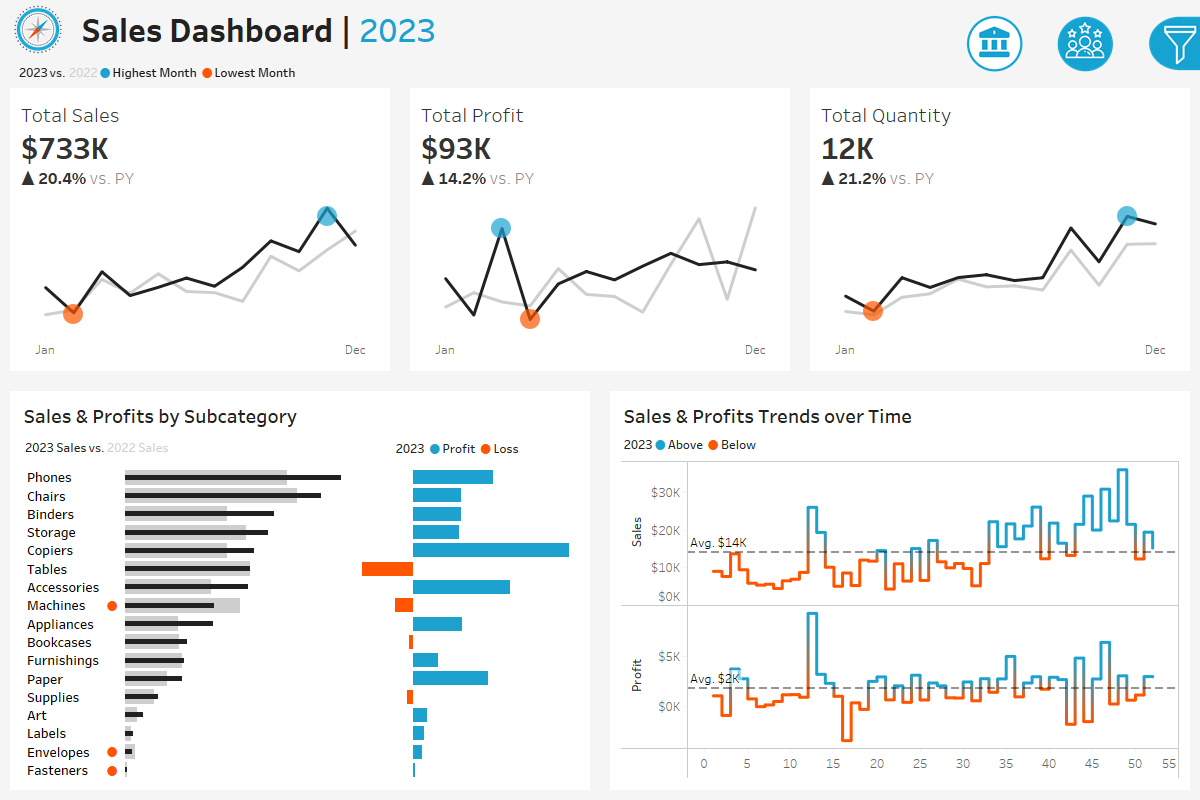

This screenshot's page, from the dashboard's own definition file:
{"tool":"tableau","page":{"name":"Sales dashboard","canvas":[1200,800],"ordinal":1},"visuals":[{"type":"image","param":"D:/SHIVAM/Imarticus-PGA/Self-Study (Extra)/Tableau/Sales Dashboard- Data with Ba","box":[0,0,75,58]},{"type":"text","box":[75,0,811,58]},{"type":"blank","box":[918,10,271,75]},{"type":"dashboard-object","box":[949,11,91,65]},{"type":"dashboard-object","box":[1040,11,91,65]},{"type":"worksheet","title":"Legend KPI","mark":"Automatic","box":[0,58,1200,30]},{"type":"text","box":[918,85,271,34]},{"type":"worksheet","title":"KPI Sales","mark":"Automatic","rows":["Calculation_732116415861977092"],"cols":["Order Date"],"box":[0,88,400,293]},{"type":"worksheet","title":"KPI Profit","mark":"Automatic","rows":["Min/Max Sales (copy)_732116415874228236"],"cols":["Order Date"],"box":[400,88,400,293]},{"type":"worksheet","title":"KPI Quantity","mark":"Automatic","rows":["Min/Max Sales (copy)_732116415880593426"],"cols":["Order Date"],"box":[800,88,400,293]},{"type":"parameter","param":"[Parameters].[Parameter 1]","box":[918,119,271,52]},{"type":"blank","box":[918,171,271,61]},{"type":"text","box":[918,232,271,29]},{"type":"filter","title":"KPI Sales","param":"[federated.1a7nlih1x0uzpz17a6ge31akw376].[none:Category:nk]","box":[918,261,271,52]},{"type":"filter","title":"KPI Sales","param":"[federated.1a7nlih1x0uzpz17a6ge31akw376].[none:Sub-Category:nk]","box":[918,313,271,52]},{"type":"blank","box":[918,365,271,61]},{"type":"text","box":[17,398,566,34]},{"type":"text","box":[617,398,566,34]},{"type":"text","box":[918,426,271,29]},{"type":"worksheet","title":"Legend Subcategory","mark":"Automatic","box":[17,432,372,32]},{"type":"text","box":[389,432,194,32]},{"type":"text","box":[617,432,566,25]},{"type":"filter","title":"KPI Sales","param":"[federated.1a7nlih1x0uzpz17a6ge31akw376].[none:Region:nk]","box":[918,455,271,52]},{"type":"worksheet","title":"Weekly Trends","mark":"Automatic","rows":["Calculation_732116415856377856","CY Sales (copy)_732116415871578121"],"cols":["Order Date"],"box":[617,457,566,326]},{"type":"worksheet","title":"Subcategory Comparison","mark":"Bar","rows":["Sub-Category","Calculation_284289728274391040"],"cols":["CY Sales (copy)_732116415856832513","Calculation_732116415856377856","CY Sales (copy)_732116415871578121"],"box":[17,464,566,318.9]},{"type":"filter","title":"KPI Sales","param":"[federated.1a7nlih1x0uzpz17a6ge31akw376].[none:State:nk]","box":[918,507,271,52]},{"type":"filter","title":"KPI Sales","param":"[federated.1a7nlih1x0uzpz17a6ge31akw376].[none:City:nk]","box":[918,559,271,52]}]}

Visuals, with their boxes in screenshot pixels (x1, y1, x2, y2), scaled from the page's 1200x800 canvas onto the 1200x800 screenshot:
image: [0, 0, 75, 58]
text: [75, 0, 886, 58]
blank: [918, 10, 1189, 85]
dashboard-object: [949, 11, 1040, 76]
dashboard-object: [1040, 11, 1131, 76]
"Legend KPI" worksheet: [0, 58, 1199, 88]
text: [918, 85, 1189, 119]
"KPI Sales" worksheet: [0, 88, 400, 381]
"KPI Profit" worksheet: [400, 88, 800, 381]
"KPI Quantity" worksheet: [800, 88, 1199, 381]
parameter: [918, 119, 1189, 171]
blank: [918, 171, 1189, 232]
text: [918, 232, 1189, 261]
"KPI Sales" filter: [918, 261, 1189, 313]
"KPI Sales" filter: [918, 313, 1189, 365]
blank: [918, 365, 1189, 426]
text: [17, 398, 583, 432]
text: [617, 398, 1183, 432]
text: [918, 426, 1189, 455]
"Legend Subcategory" worksheet: [17, 432, 389, 464]
text: [389, 432, 583, 464]
text: [617, 432, 1183, 457]
"KPI Sales" filter: [918, 455, 1189, 507]
"Weekly Trends" worksheet: [617, 457, 1183, 783]
"Subcategory Comparison" worksheet (Bar marks): [17, 464, 583, 783]
"KPI Sales" filter: [918, 507, 1189, 559]
"KPI Sales" filter: [918, 559, 1189, 611]
